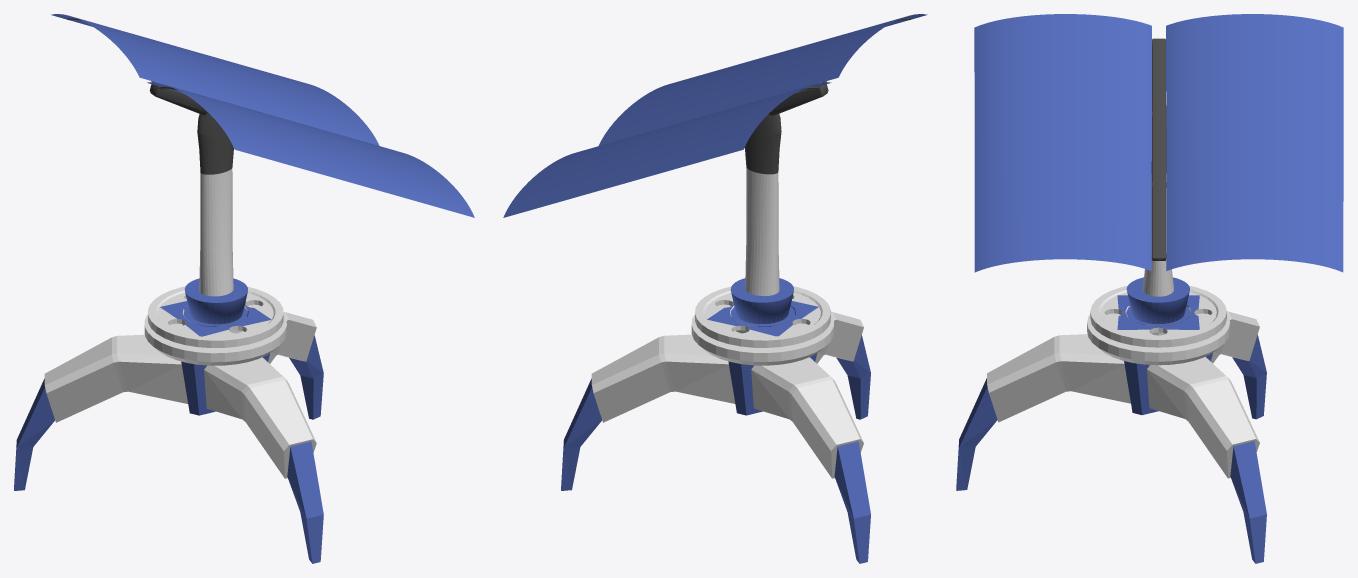
Rendered from Solar-Panel.fbx.
3 views of the same model, side by side, from view 1: azimuth 30°, elevation 25°; view 2: azimuth 150°, elevation 25°; view 3: azimuth 270°, elevation 25° (orthographic).
Parts seen in each view (by area): view 1: Base, Solar, Holder; view 2: Base, Solar, Holder; view 3: Solar, Base, Holder.
Part boxes in pixels (box(x1,y1,x2,y2)): Base: box(14, 286, 323, 563); Solar: box(51, 14, 474, 217); Holder: box(67, 18, 247, 324); Base: box(561, 286, 870, 563); Solar: box(503, 14, 927, 217); Holder: box(730, 18, 911, 323); Solar: box(974, 14, 1343, 272); Base: box(956, 285, 1266, 563); Holder: box(1126, 38, 1190, 324).
Size of the model in its own units: 99.48 by 129 by 102.
